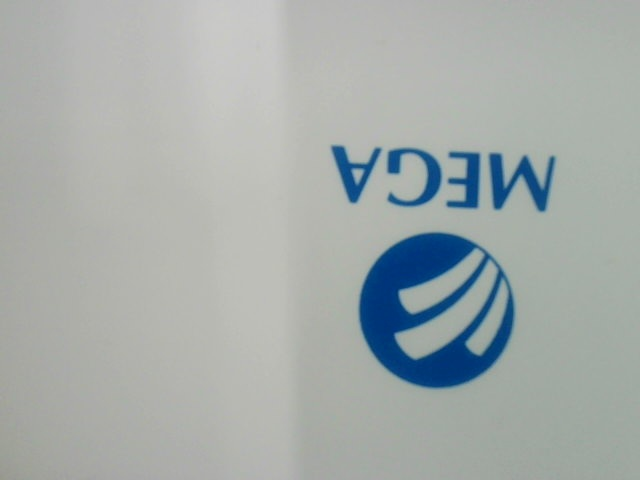AM_ZTEMEGA: (309, 128, 592, 394)
